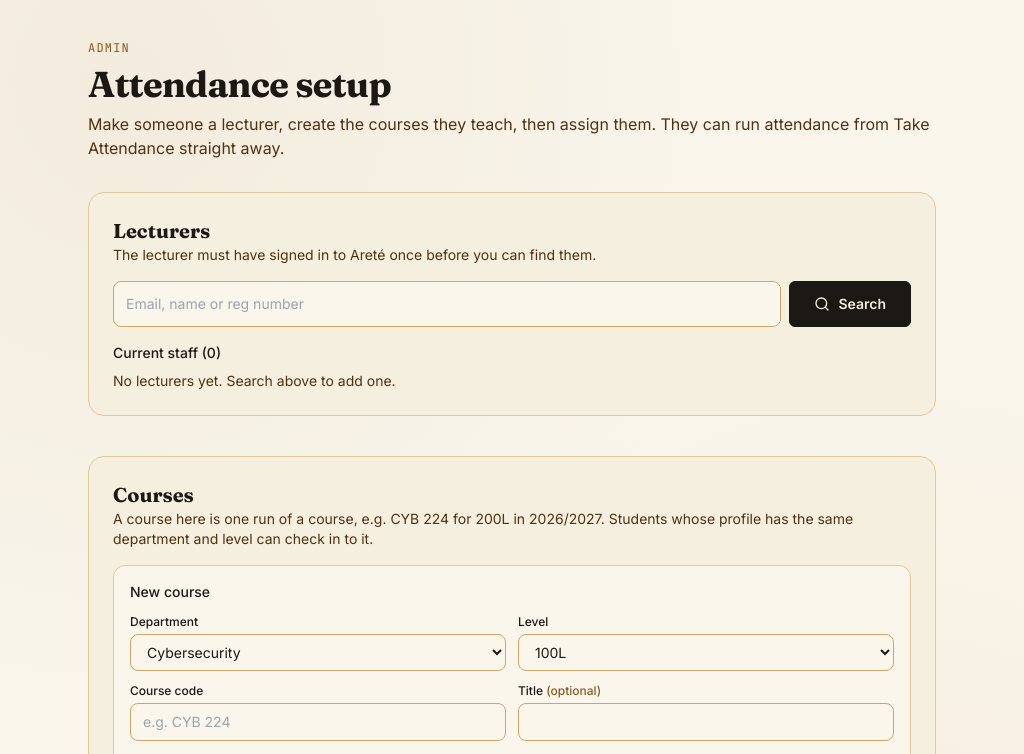
it: Admin page › finds a user and makes them a lecturer
The image size is (1024, 754).
Type "bassey" into the field labelled "Email, name or reg number".
click(447, 304); type("bassey")  # box left=113, top=281, right=782, bottom=327
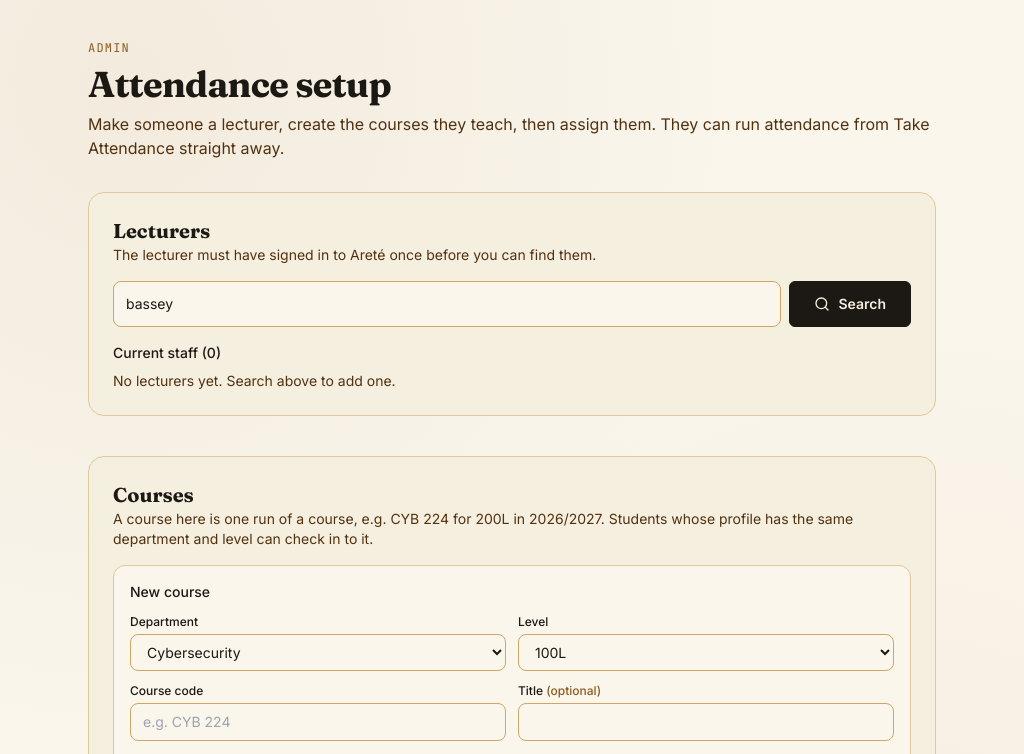
Click the button "Search".
click(850, 304)  # box left=790, top=281, right=911, bottom=327
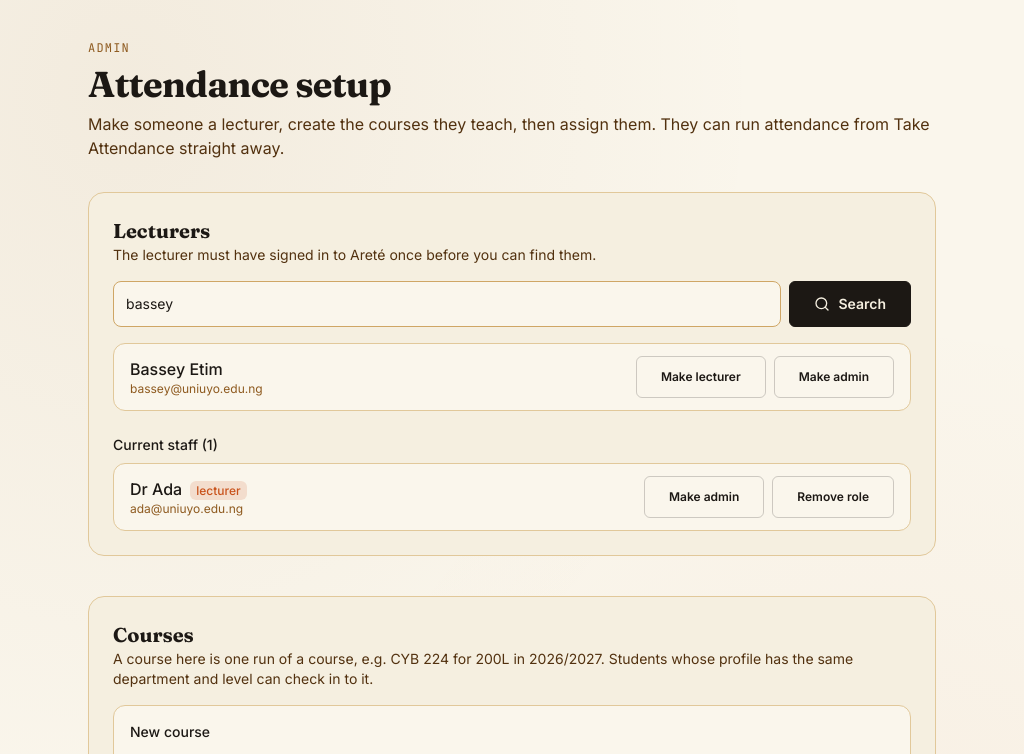
Check: the text "Bassey Etim" is shown, box left=130, top=359, right=223, bottom=379
Click the button "Make lecturer".
click(701, 377)  # box left=636, top=356, right=766, bottom=398
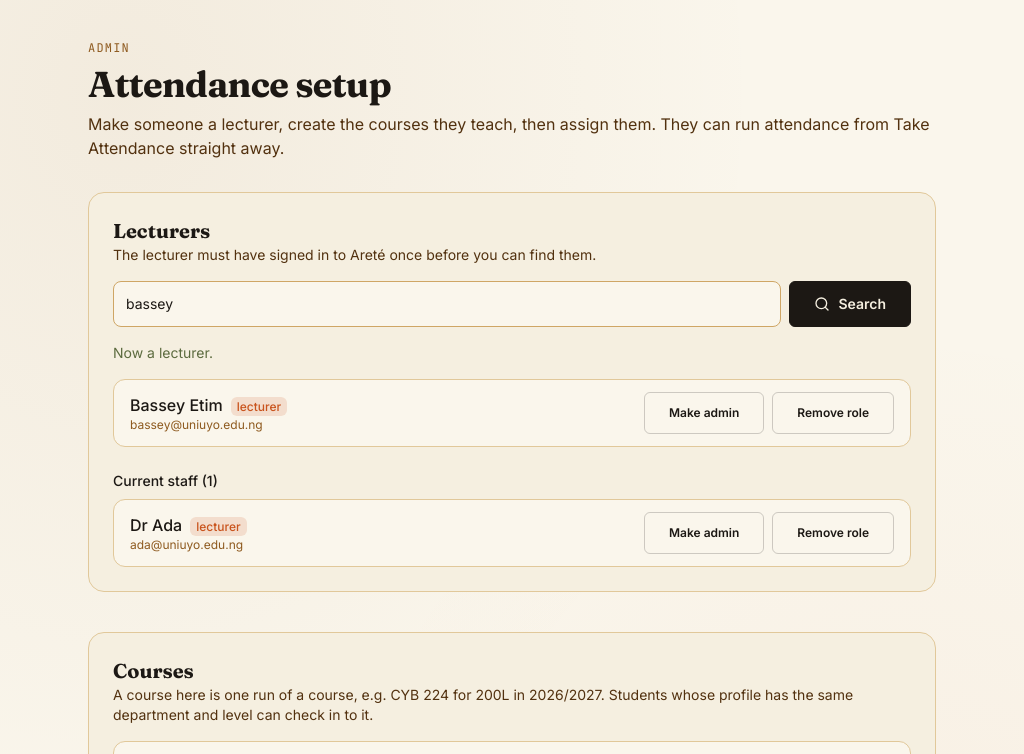
Check: the text "Now a lecturer." is shown, box left=113, top=344, right=213, bottom=361
